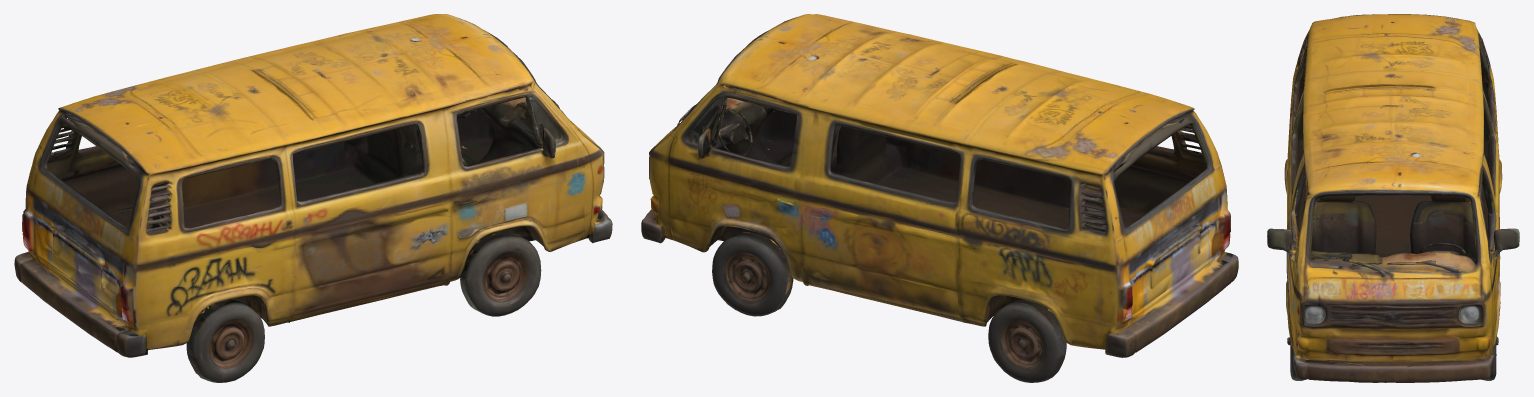
The model's file is danfo.glb.
3 views of the same model, side by side, from view 1: azimuth 30°, elevation 25°; view 2: azimuth 150°, elevation 25°; view 3: azimuth 270°, elevation 25° (orthographic). The views are drawn at different scales.
Parts seen in each view (by area): view 1: Object_4; view 2: Object_4; view 3: Object_4.
Boxes of the visible parts, bbox=[...] form: Object_4: bbox=[14, 14, 612, 382]; Object_4: bbox=[641, 14, 1238, 382]; Object_4: bbox=[1267, 14, 1519, 382].
Size of the model in its own units: 2 by 0.8948 by 0.9543.
Materials: 1 (1 with a texture image).
